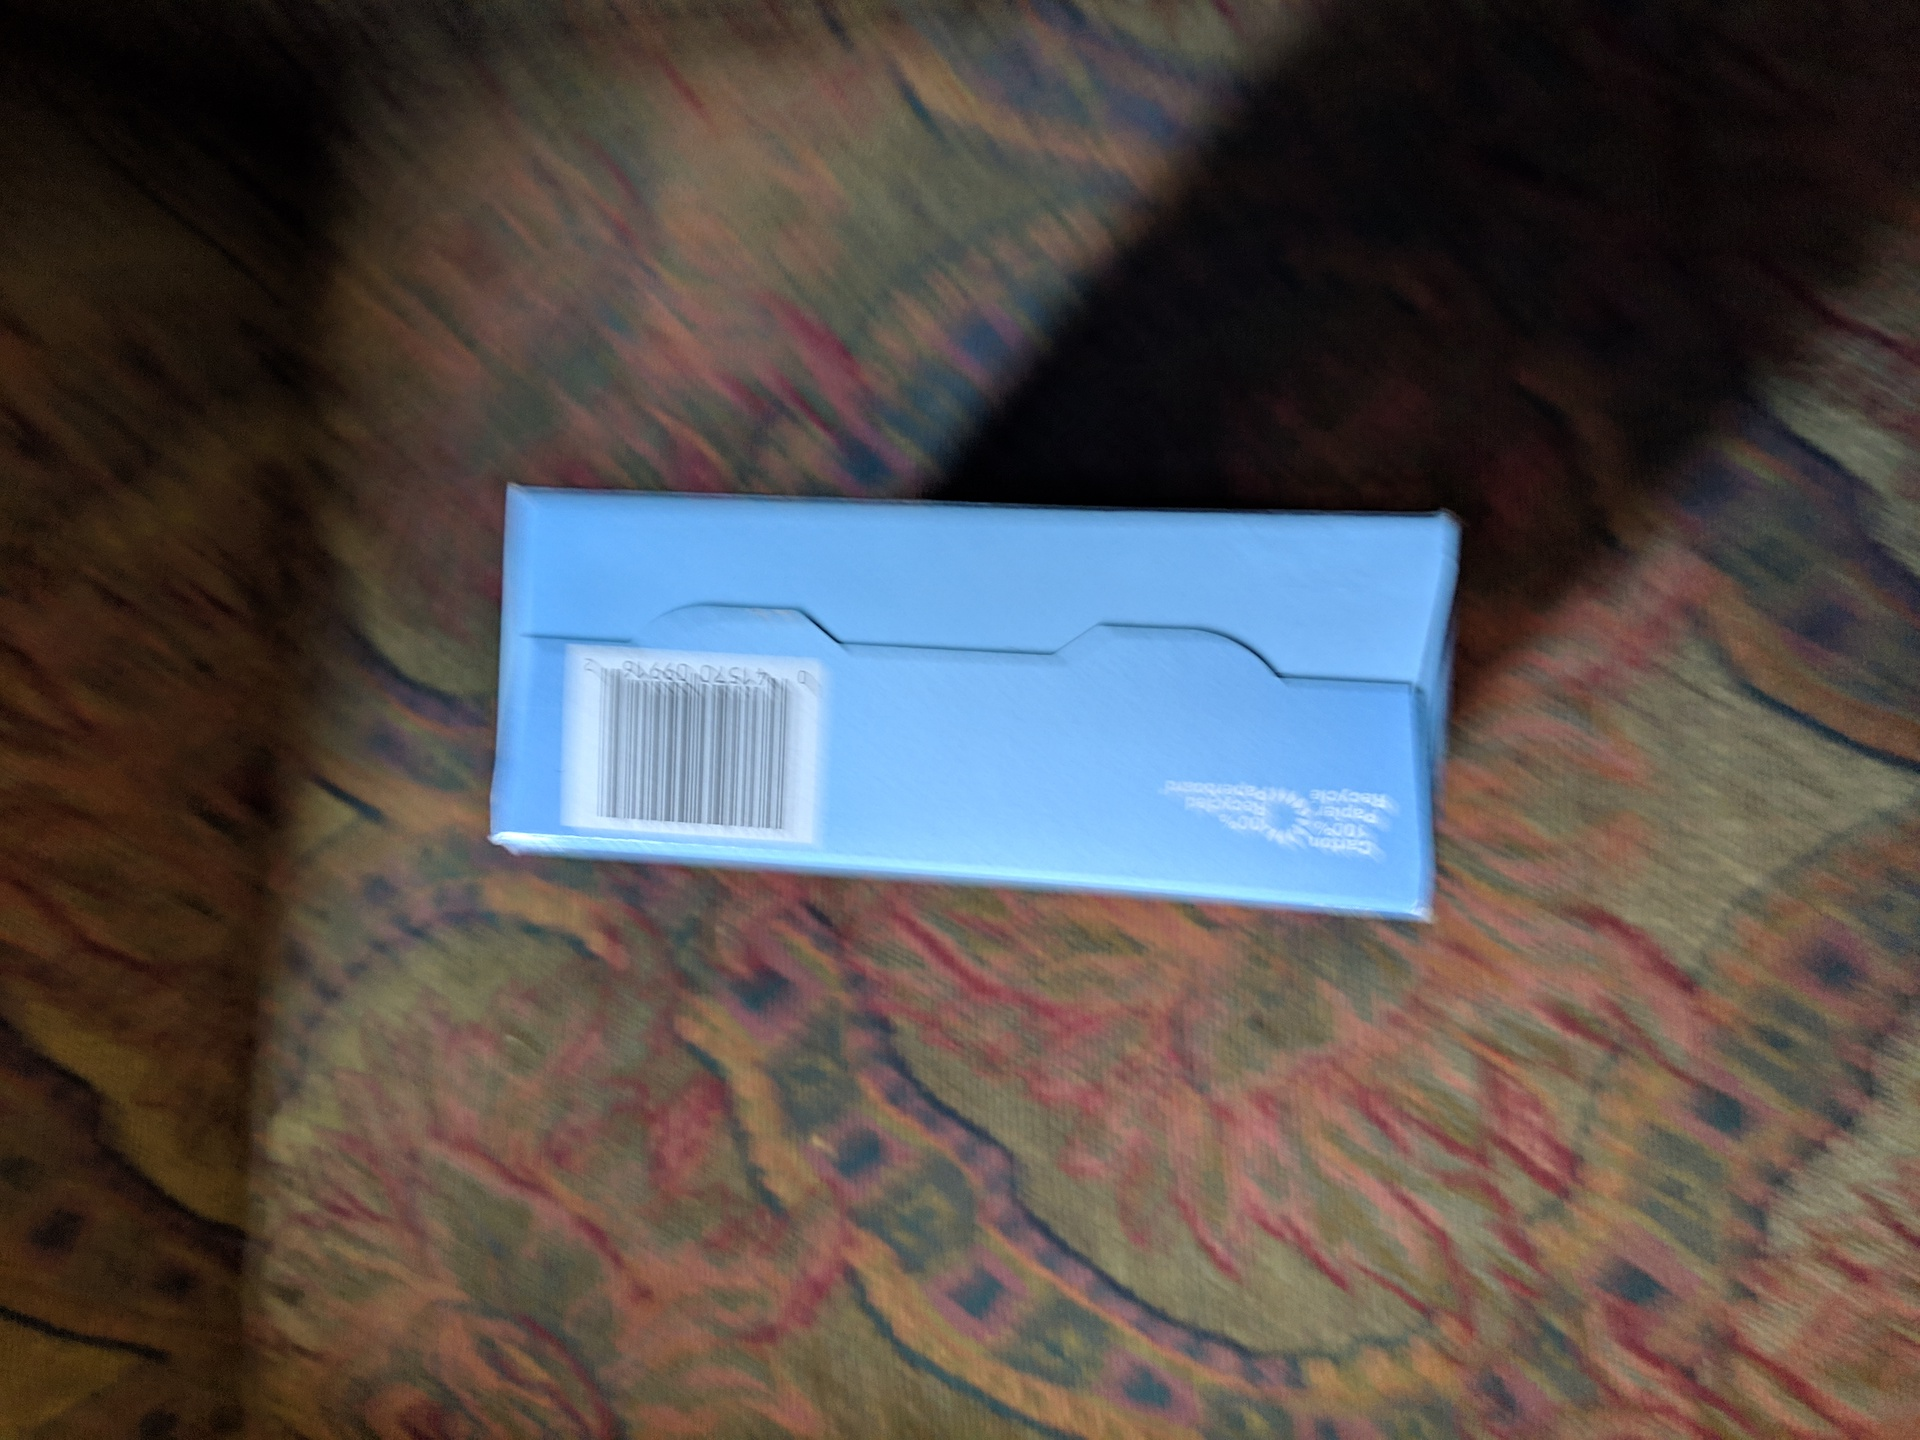blue_diamond_nut_thins_almond_seasalt: (519, 511, 1457, 871)
